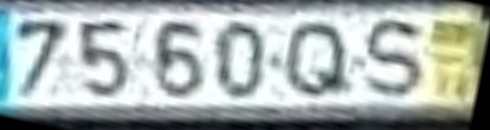0: (209, 17, 269, 104)
5: (75, 17, 135, 100)
6: (152, 16, 208, 103)
7: (14, 17, 68, 102)
Q: (283, 19, 357, 100)
S: (362, 15, 427, 103)
